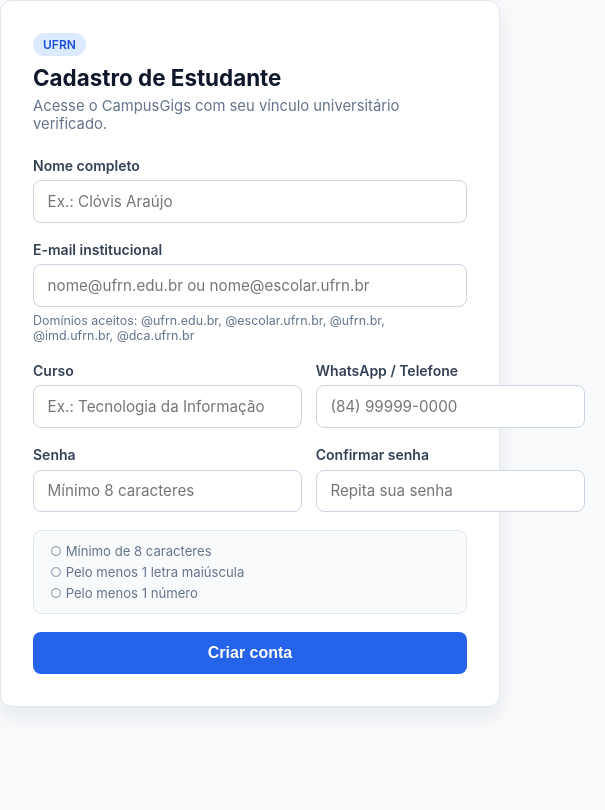
it: RegisterForm › deve exibir erro e impedir envio quando a senha não cumpre a política de complexidade
Type "Clóvis Araújo" into the field labelled "Nome completo" at (250,201), box [33,180,467,223]
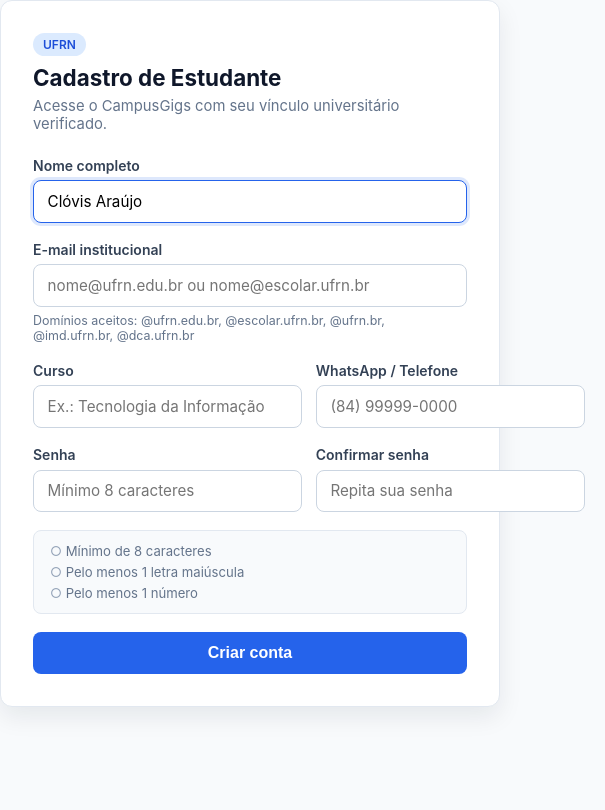
Type "clovis@ufrn.edu.br" into the field labelled "E-mail institucional" at (250,286), box [33,264,467,307]
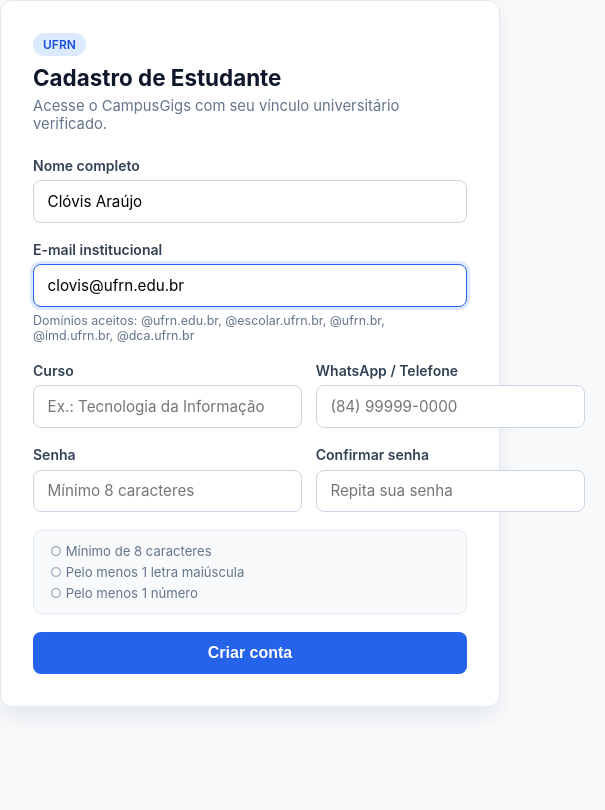
Type "fraca123" into the password field labelled "Senha" at (168,491), box [33,470,302,512]
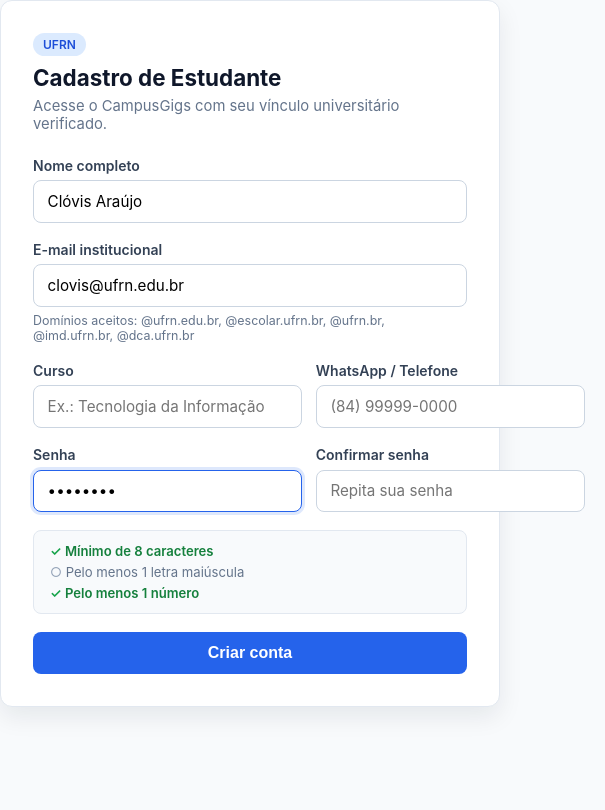
Type "fraca123" into the password field labelled "Confirmar senha" at (450,491), box [316,470,585,512]
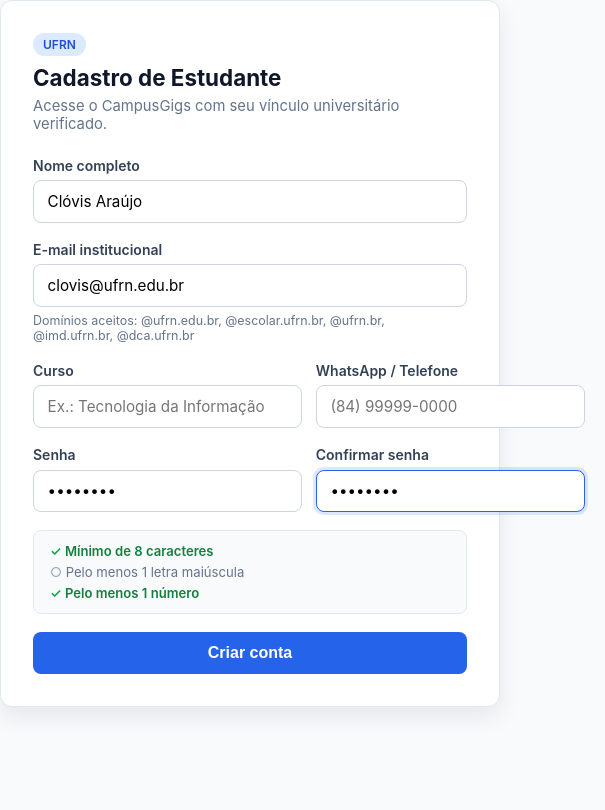
Click the button "Criar conta" at (250,654), box [33,632,467,674]
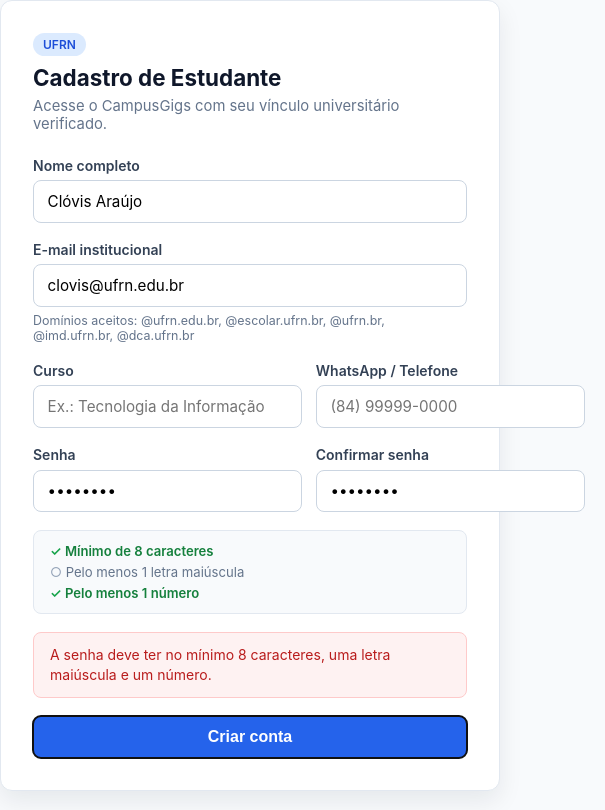
Expected: the text "A senha deve ter no mínimo 8 caracteres, uma letra maiúscula e um número." is shown, [33,632,467,698]
